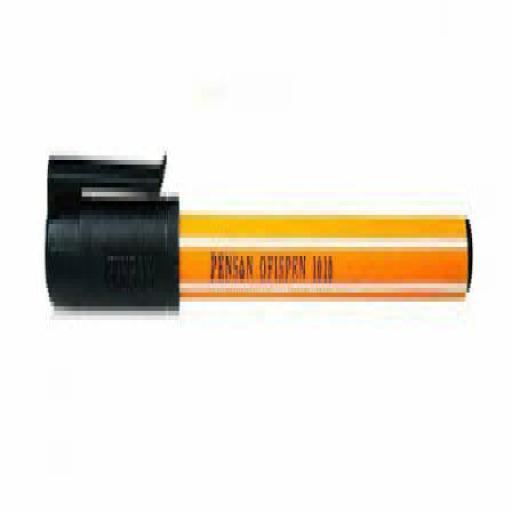tukenmez-kalem: (31, 87, 494, 392)
